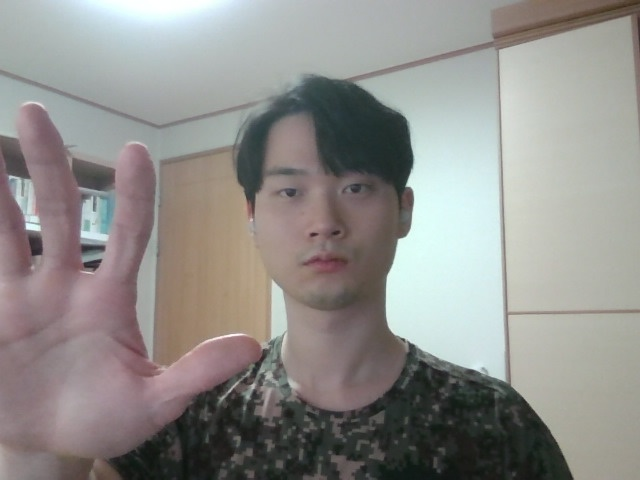hello: (1, 56, 252, 466)
